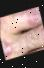plaque psoriasis: (25, 8, 43, 28), (1, 36, 15, 60), (40, 27, 44, 43)
